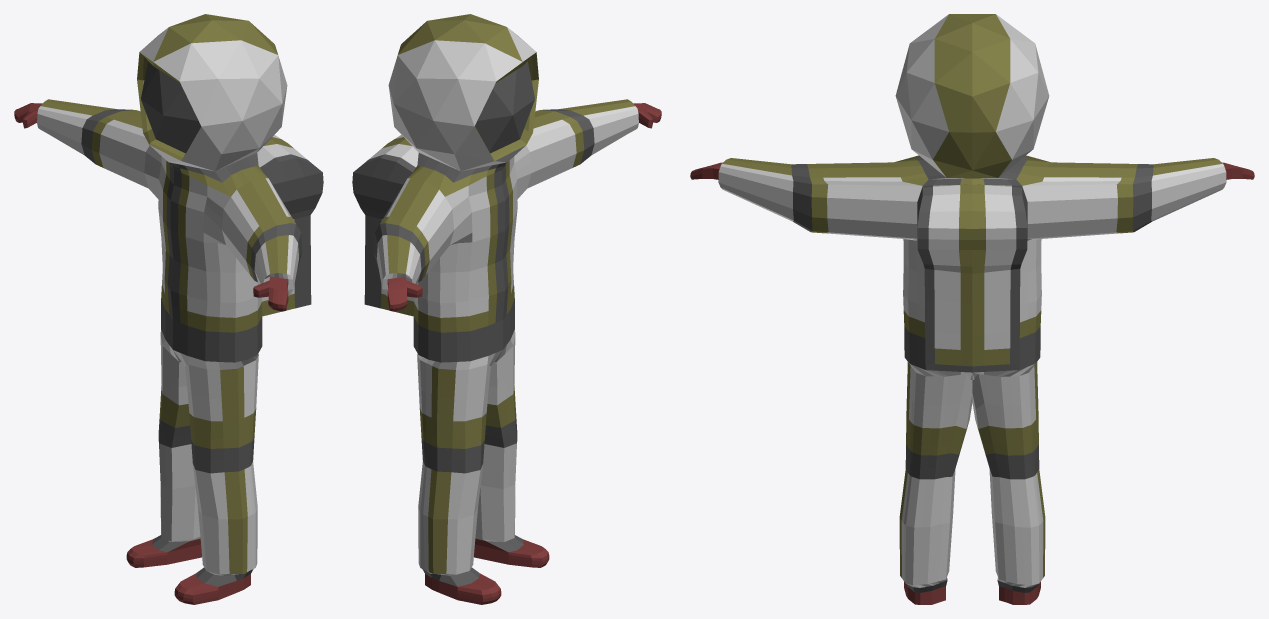
File: BodyPlayer.dae
3 renders of one model, left to right at view 1: azimuth 30°, elevation 25°; view 2: azimuth 150°, elevation 25°; view 3: azimuth 270°, elevation 25°, orthographic. The views are drawn at different scales.
Visible parts, largest first — view 1: ShapeColon; view 2: ShapeColon; view 3: ShapeColon.
Boxes of the visible parts, x1,y1,x2,y2 form: ShapeColon: (14, 14, 323, 604); ShapeColon: (352, 14, 661, 604); ShapeColon: (690, 14, 1254, 604).
Size of the model in its own units: 0.6765 by 1.98 by 2.23.
